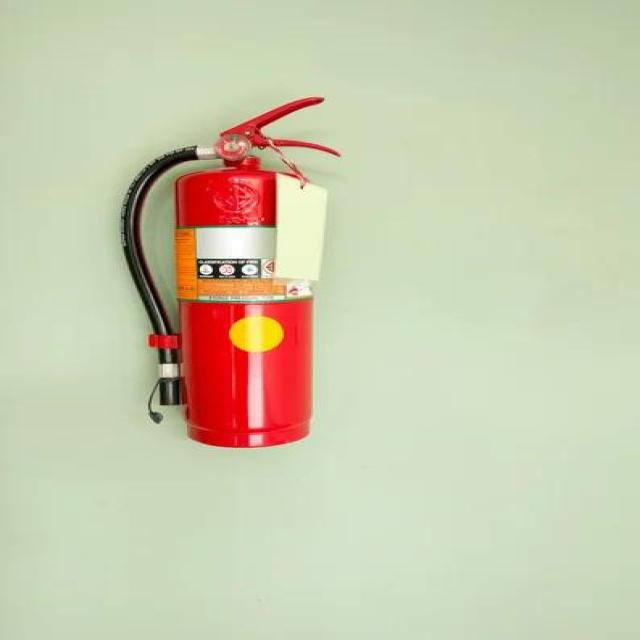fire_extinguisher: (107, 89, 349, 450)
